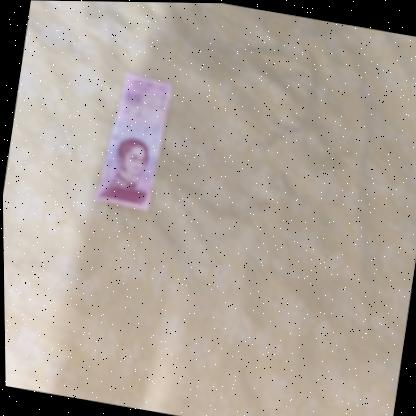one_hundred-front-vef: (90, 69, 174, 211)
